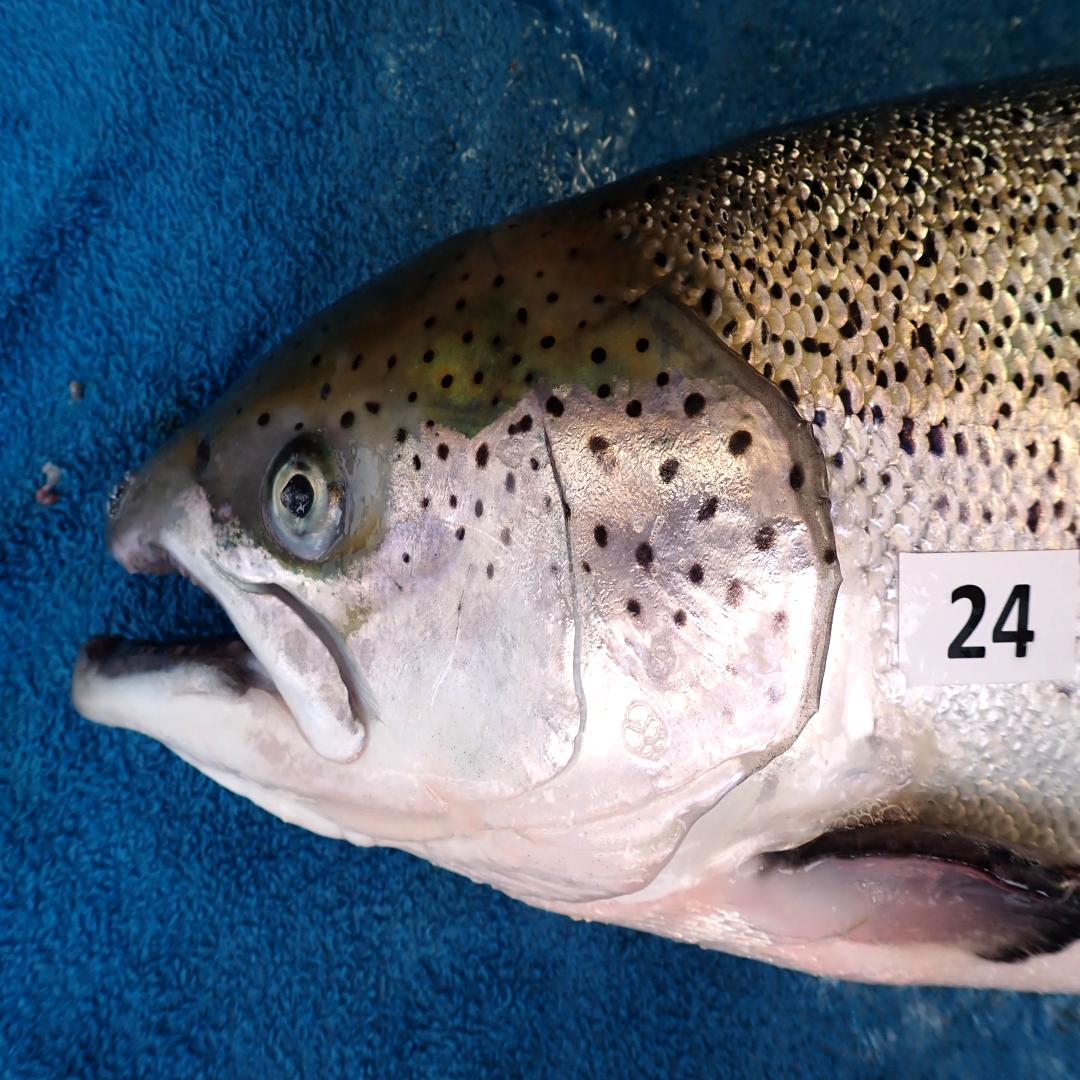roi: (363, 368, 831, 917)
